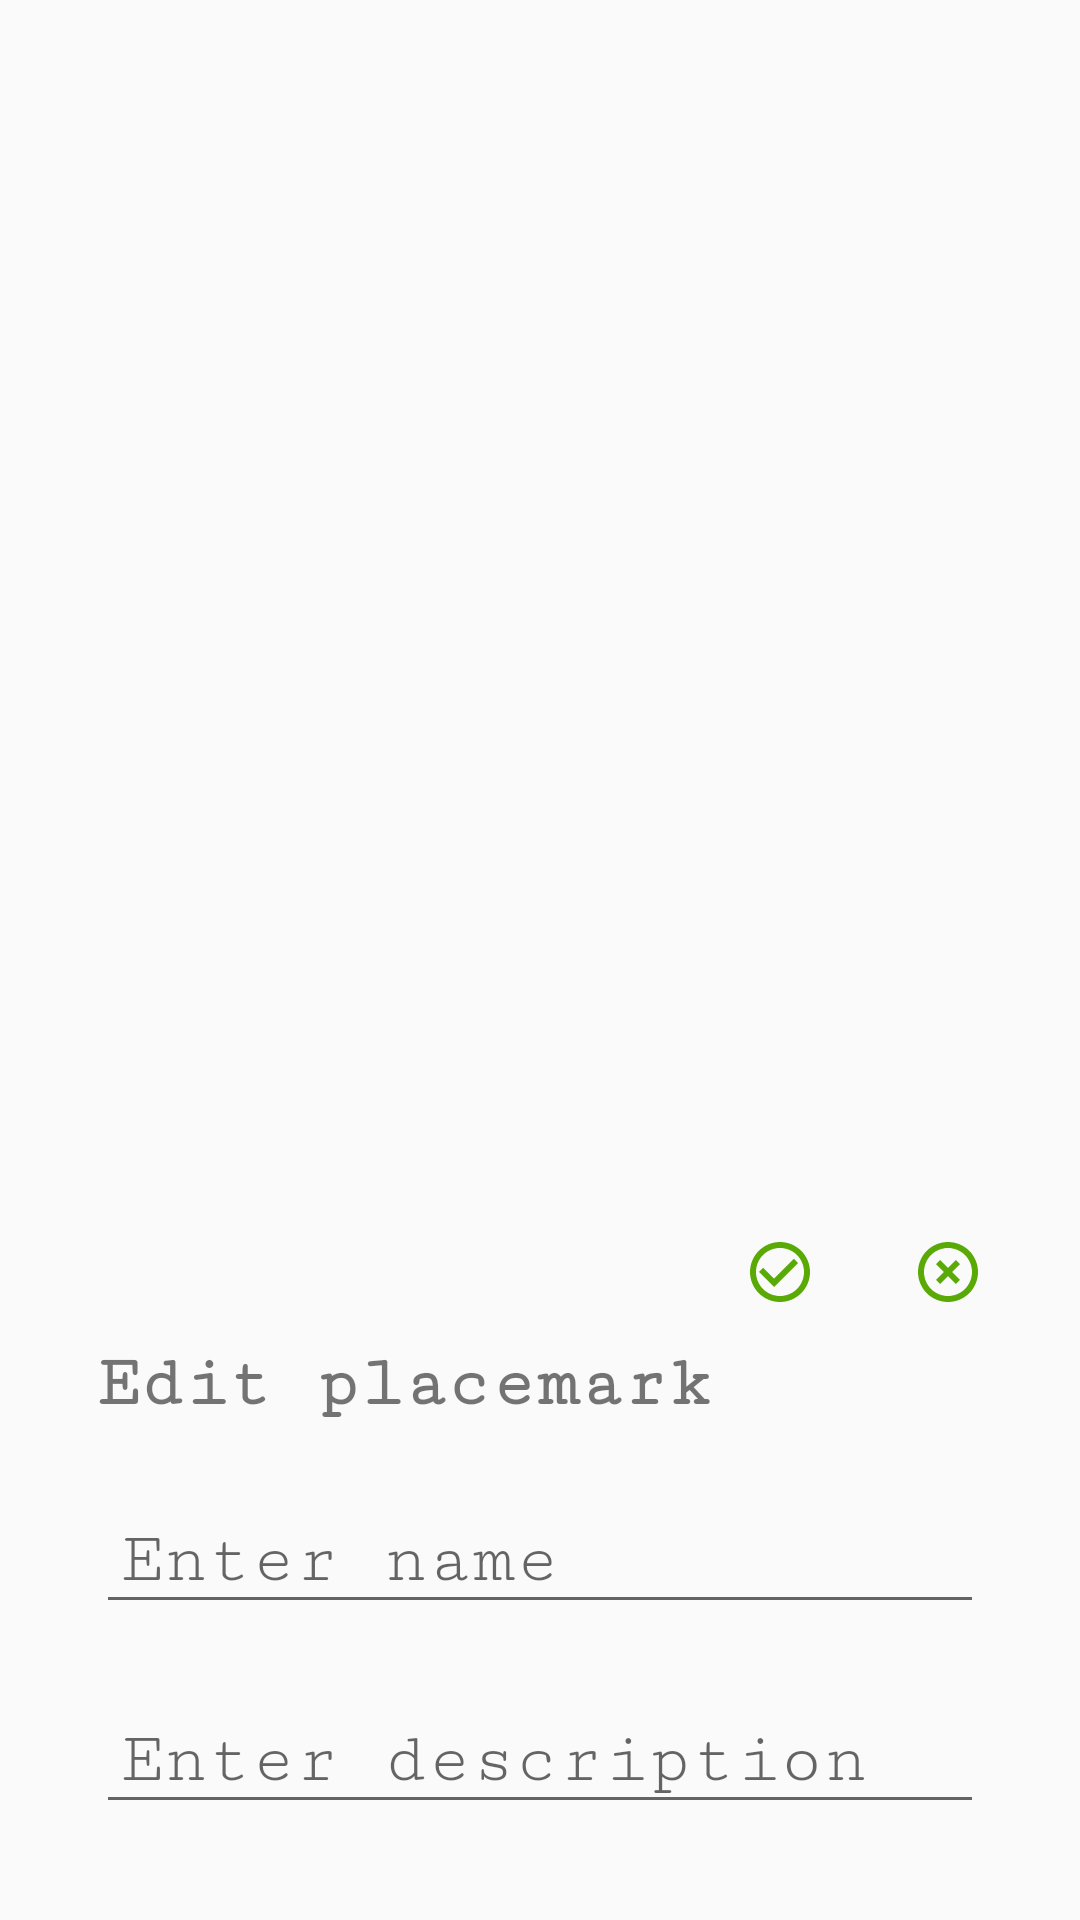

Icon bounding boxes for this 1080px×1920px phone screenshot, format BBox(x1, y1, x2, y2):
Cancel button: BBox(918, 1242, 978, 1302)
Save button: BBox(750, 1242, 810, 1302)
